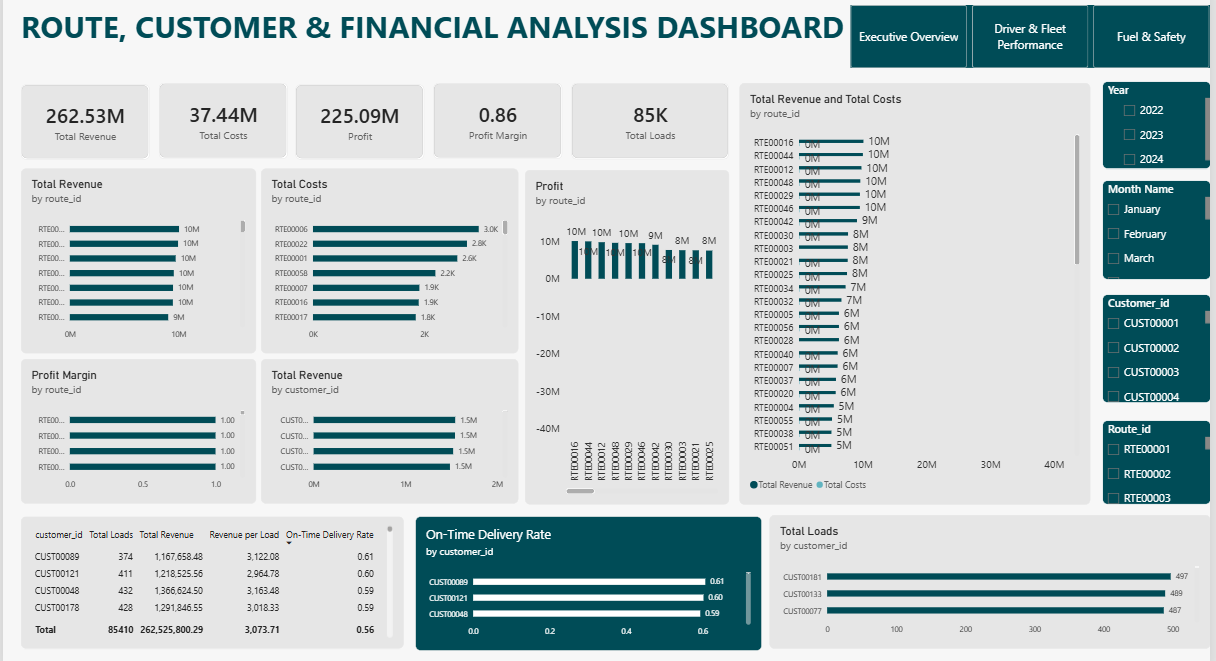

What the dashboard file says about the page in this screenshot:
{"tool":"powerbi","page":{"name":"Route, Customer & Financial Analysis","canvas":[1920,1080],"ordinal":2},"visuals":[{"type":"barChart","fields":{"Category":["Route.route_id"],"Y":["Loads.Total Revenue"]},"box":[27.9,284.6,373.7,293.9],"z":0},{"type":"clusteredBarChart","fields":{"Category":["Loads.route_id"],"Y":["Fuel purchases.Total Costs"]},"box":[411,284.6,409.7,293.9],"z":1000},{"type":"columnChart","fields":{"Category":["Route.route_id"],"Y":["Fuel purchases.Profit"]},"box":[830,287.3,324.5,532],"z":2000},{"type":"cardVisual","fields":{"Data":["Fuel purchases.Total Costs"]},"box":[247.4,147.8,204.5,120.9],"z":3000},{"type":"cardVisual","fields":{"Data":["Fuel purchases.Profit"]},"box":[466.4,149.3,204.5,119.4],"z":4000},{"type":"cardVisual","fields":{"Data":["Loads.Total Loads"]},"box":[904.4,147.7,250,121],"z":5000},{"type":"cardVisual","fields":{"Data":["Fuel purchases.Profit Margin"]},"box":[685.4,147.8,204.5,120.9],"z":6000},{"type":"cardVisual","fields":{"Data":["Loads.Total Revenue"]},"box":[28.4,149.3,204.5,119.4],"z":7000},{"type":"barChart","fields":{"Category":["Loads.route_id"],"Y":["Fuel purchases.Profit Margin"]},"box":[27.9,586.6,373.7,230.1],"z":8000},{"type":"barChart","fields":{"Category":["Customer.customer_id"],"Y":["Loads.Total Revenue"]},"box":[411,586.6,409.7,230.1],"z":9000},{"type":"barChart","fields":{"Category":["Customer.customer_id"],"Y":["Delivery event.On-Time Delivery Rate"]},"box":[656.9,837.6,550.9,213.5],"z":10000},{"type":"slicer","fields":{"Values":["DateTable.Month Name"]},"box":[1748.9,303,171.8,157.5],"z":11000},{"type":"slicer","fields":{"Values":["Customer.customer_id"]},"box":[1748.9,484.3,171.8,171.8],"z":12000},{"type":"slicer","fields":{"Values":["Route.route_id"]},"box":[1748.9,684.8,171.8,133.6],"z":13000},{"type":"clusteredBarChart","fields":{"Category":["Route.route_id"],"Y":["Loads.Total Revenue","Fuel purchases.Total Costs"]},"box":[1171.5,147.9,558.3,670.4],"z":14000},{"type":"barChart","fields":{"Category":["Customer.customer_id"],"Y":["Loads.Total Loads"]},"box":[1219.2,835.1,701.5,212.3],"z":15000},{"type":"tableEx","fields":{"Values":["Customer.customer_id","Loads.Total Loads","Loads.Total Revenue","Loads.Revenue per Load","Delivery event.On-Time Delivery Rate"]},"box":[28.6,837.5,608.4,210],"z":16000},{"type":"slicer","fields":{"Values":["DateTable.Year","DateTable.Year"]},"box":[1748.9,145.5,171.8,138.4],"z":17000},{"type":"textbox","box":[28.6,23.9,1319.4,100.2],"z":18000},{"type":"pageNavigator","box":[1348,23.9,572.6,100.2],"z":19000}]}

Visuals, with their boxes on the page's 1920x1080 design canvas (x1, y1, x2, y2). These are canvas units, not pixel positions in the 1216x661 screenshot, which may show the page scaled, cropped or inside an application window:
barChart - Route.route_id x Loads.Total Revenue: bbox(28, 285, 402, 578)
clusteredBarChart - Loads.route_id x Fuel purchases.Total Costs: bbox(411, 285, 821, 578)
columnChart - Route.route_id x Fuel purchases.Profit: bbox(830, 287, 1154, 819)
cardVisual - Fuel purchases.Total Costs: bbox(247, 148, 452, 269)
cardVisual - Fuel purchases.Profit: bbox(466, 149, 671, 269)
cardVisual - Loads.Total Loads: bbox(904, 148, 1154, 269)
cardVisual - Fuel purchases.Profit Margin: bbox(685, 148, 890, 269)
cardVisual - Loads.Total Revenue: bbox(28, 149, 233, 269)
barChart - Loads.route_id x Fuel purchases.Profit Margin: bbox(28, 587, 402, 817)
barChart - Customer.customer_id x Loads.Total Revenue: bbox(411, 587, 821, 817)
barChart - Customer.customer_id x Delivery event.On-Time Delivery Rate: bbox(657, 838, 1208, 1051)
slicer - DateTable.Month Name: bbox(1749, 303, 1921, 460)
slicer - Customer.customer_id: bbox(1749, 484, 1921, 656)
slicer - Route.route_id: bbox(1749, 685, 1921, 818)
clusteredBarChart - Route.route_id x Loads.Total Revenue: bbox(1172, 148, 1730, 818)
barChart - Customer.customer_id x Loads.Total Loads: bbox(1219, 835, 1921, 1047)
tableEx - Customer.customer_id x Loads.Total Loads: bbox(29, 838, 637, 1048)
slicer - DateTable.Year x DateTable.Year: bbox(1749, 146, 1921, 284)
textbox: bbox(29, 24, 1348, 124)
pageNavigator: bbox(1348, 24, 1921, 124)
